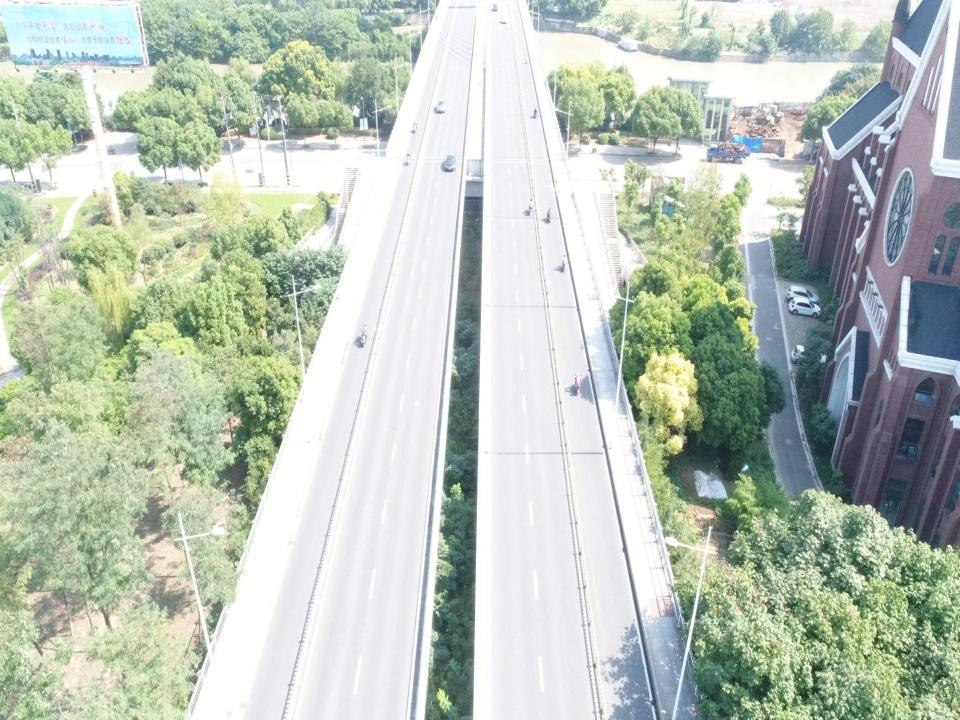car: (790, 344, 828, 367), (786, 285, 820, 305), (788, 296, 821, 316), (445, 152, 456, 171), (436, 97, 446, 113), (500, 15, 507, 24)
truck: (706, 142, 751, 163)
van: (492, 1, 498, 11)
